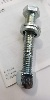FinishedAssembly: (16, 3, 46, 92)
